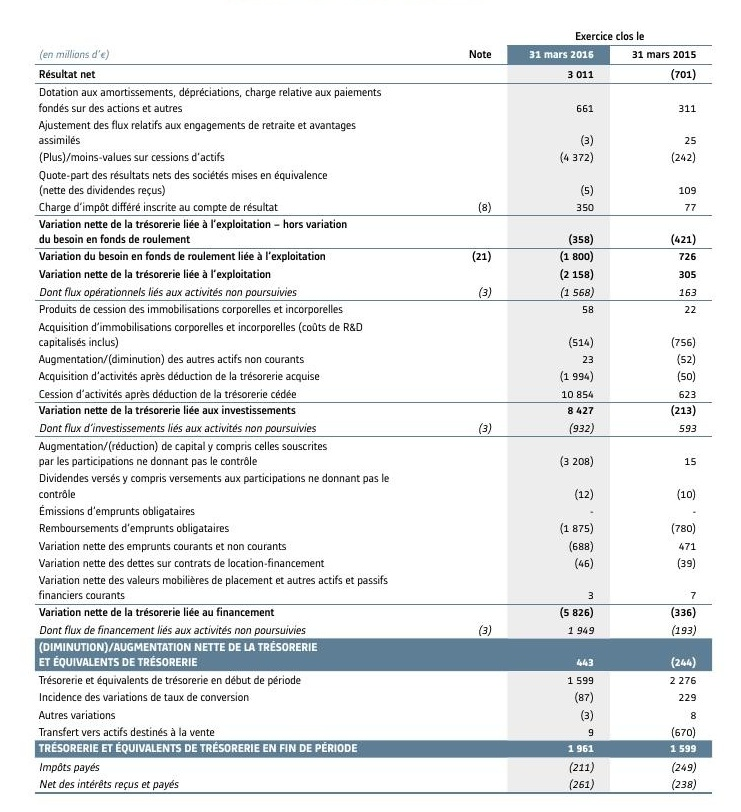table: (0, 0, 741, 812)
